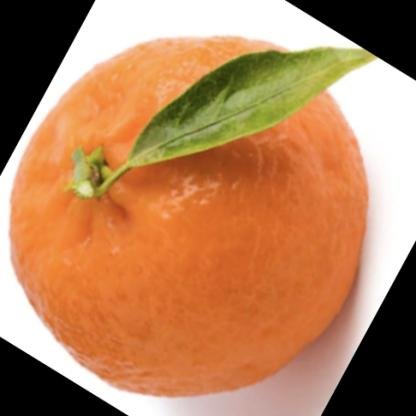fresh: (14, 36, 368, 397)
